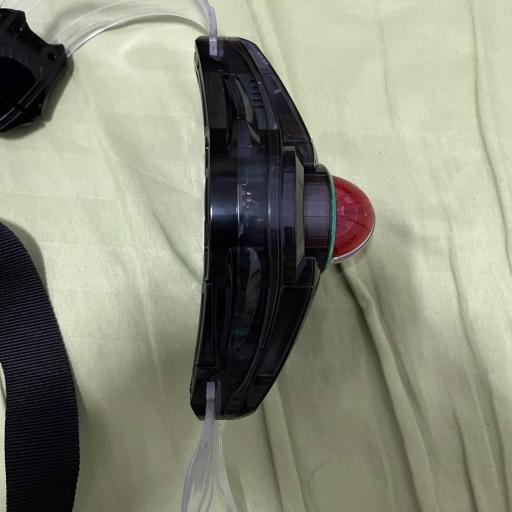zeztzdriver: (190, 1, 374, 420), (181, 381, 237, 512)
